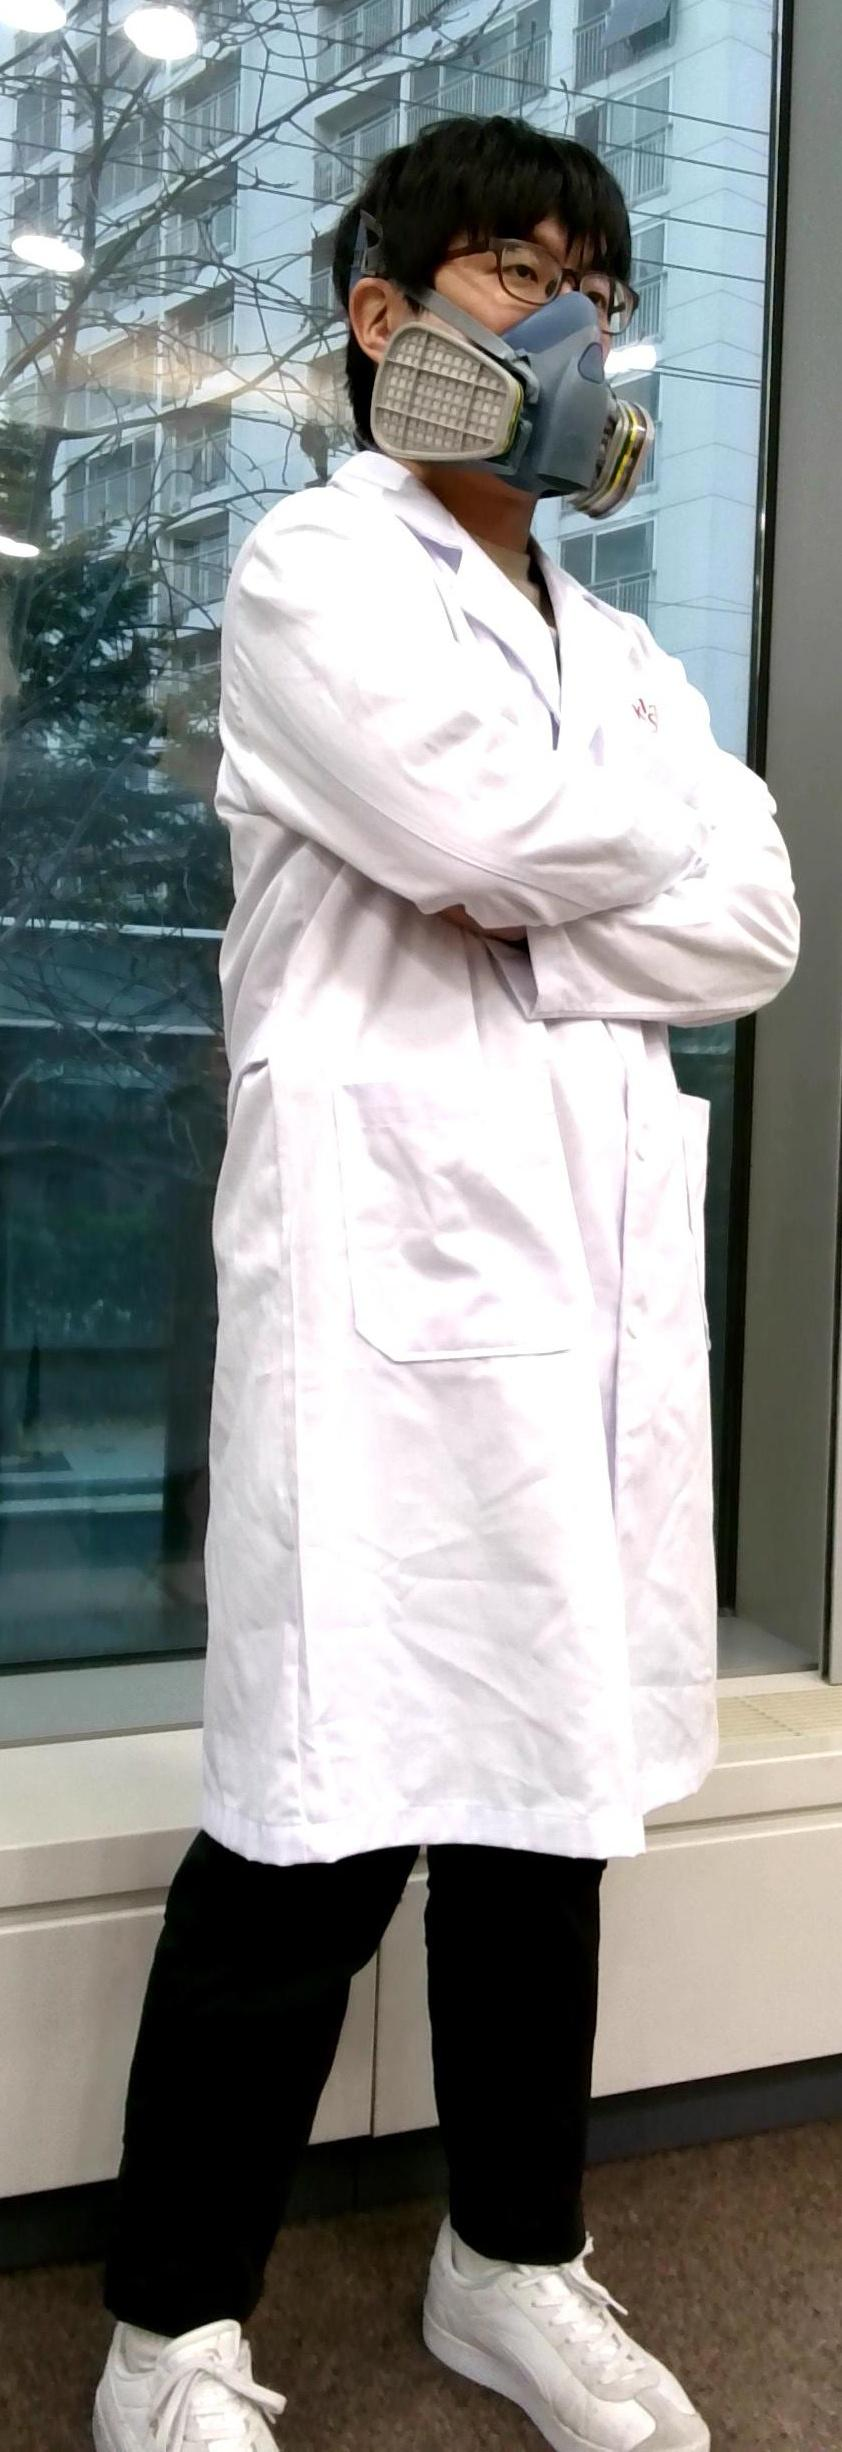lab_coat: (142, 651, 772, 1797)
